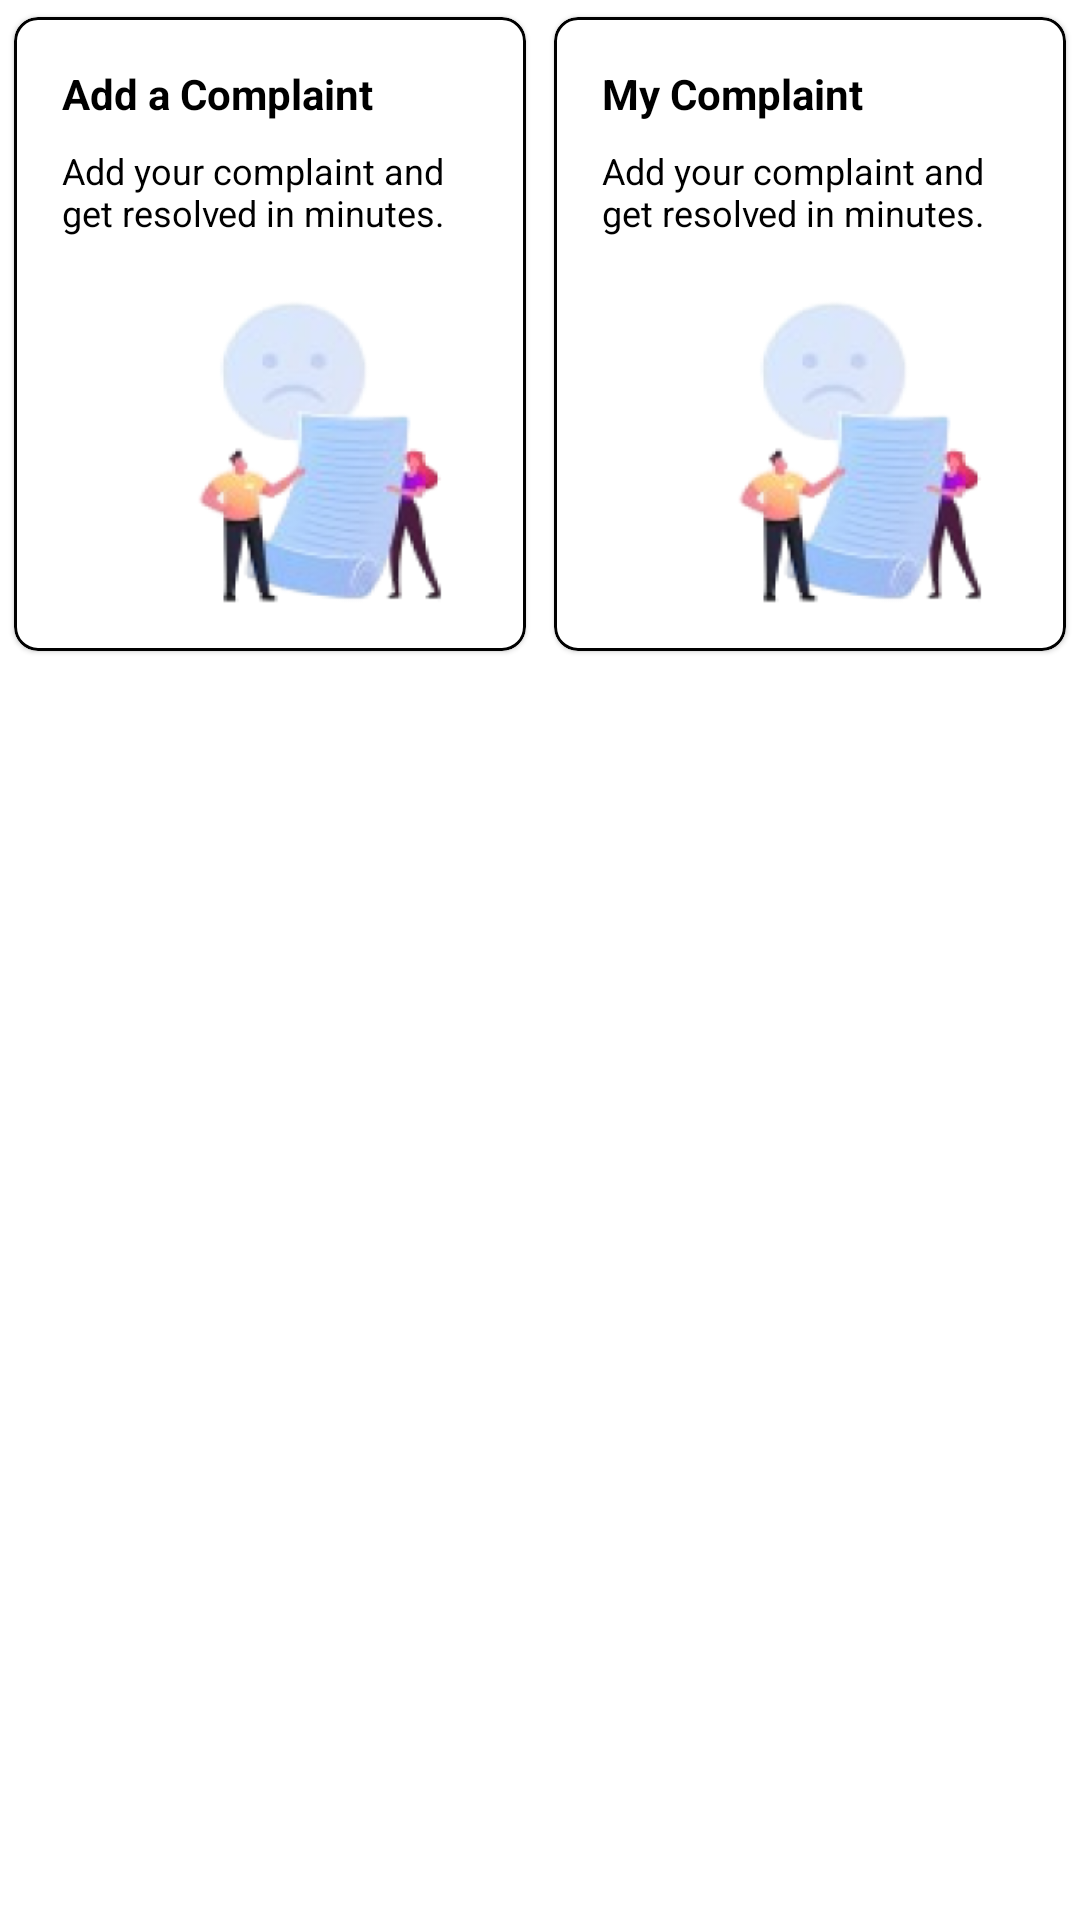

Screen size 1080w x 1920h. Icon name, then its box in pixels as (x1, y1, x2, y2):
im complaints add: (200, 305, 441, 603), (740, 305, 981, 603)
